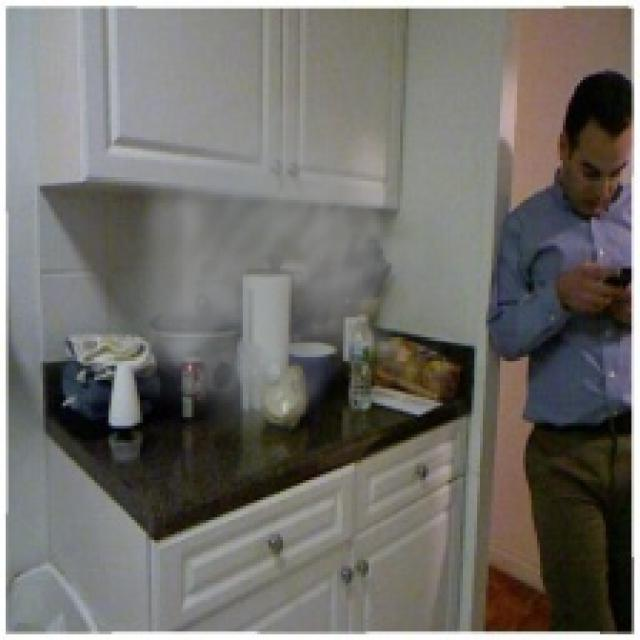smoke: (114, 83, 469, 454)
